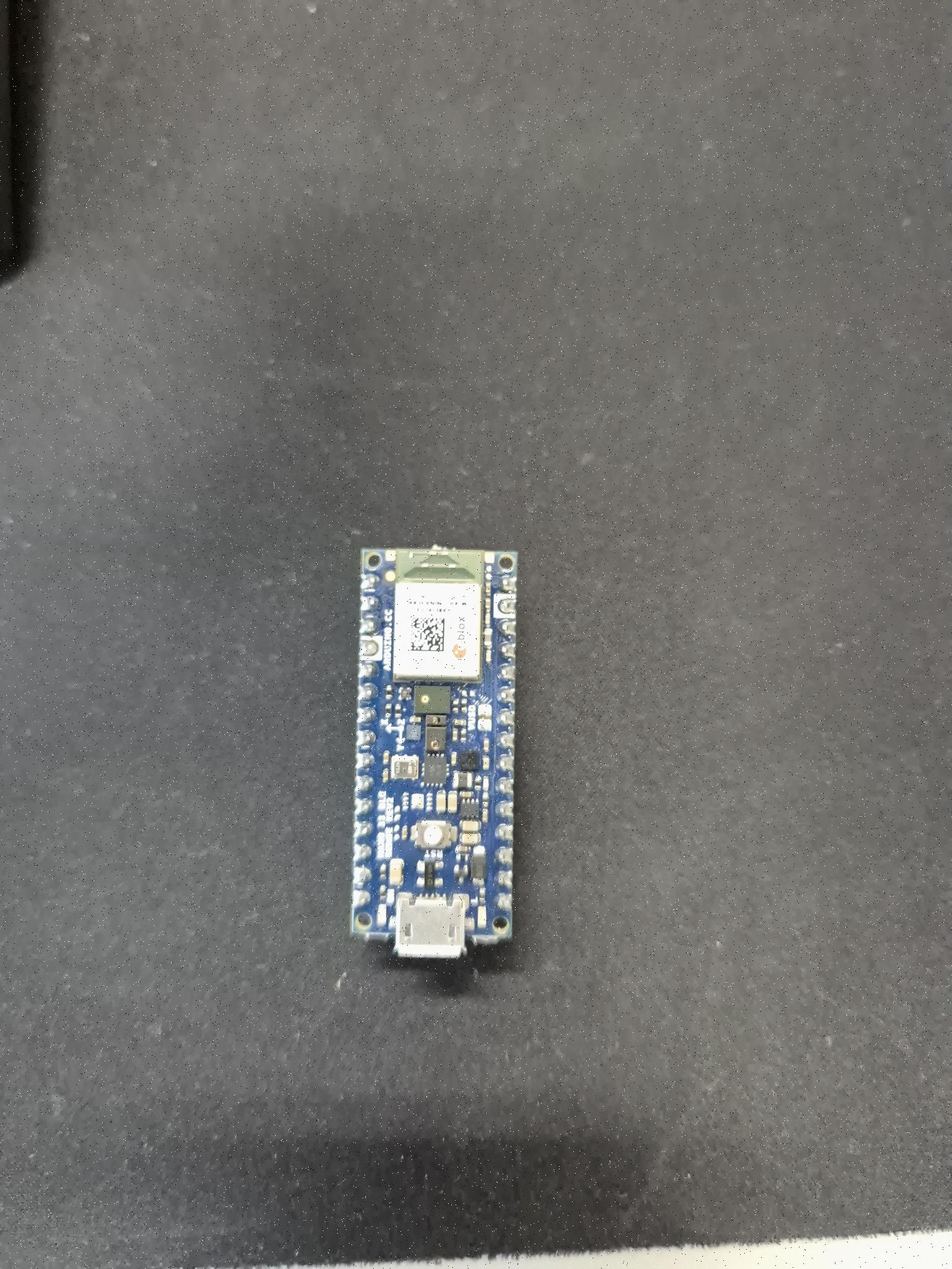arduino-nano-ble-sense: (352, 547, 517, 957)
